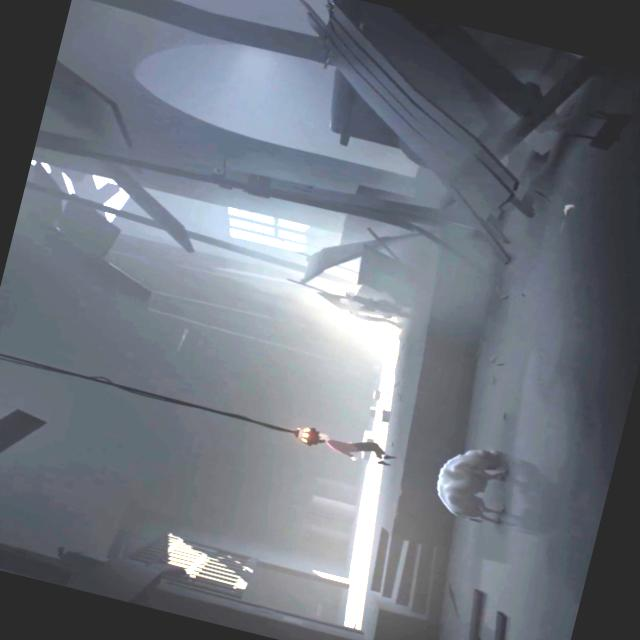boy: (304, 426, 395, 469)
zombie: (342, 290, 414, 315), (346, 309, 400, 329)
